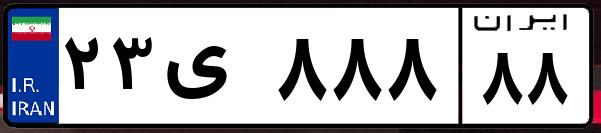2: (57, 26, 110, 100)
3: (110, 28, 158, 98)
8: (270, 28, 330, 110), (385, 28, 445, 110), (330, 28, 385, 110), (475, 38, 525, 113), (525, 38, 570, 115)
ی: (158, 20, 270, 120)
